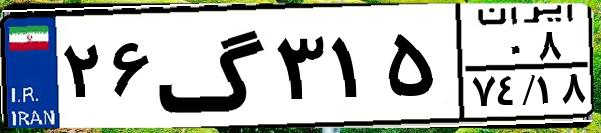0: (508, 27, 537, 80)
1: (330, 28, 385, 110), (535, 70, 560, 125)
2: (57, 26, 110, 100)
3: (270, 28, 330, 110)
4: (495, 70, 520, 125)
5: (385, 28, 445, 110)
6: (110, 28, 156, 98)
7: (470, 70, 495, 125)
8: (560, 70, 590, 125), (537, 27, 568, 80)
گ: (156, 12, 270, 120)
